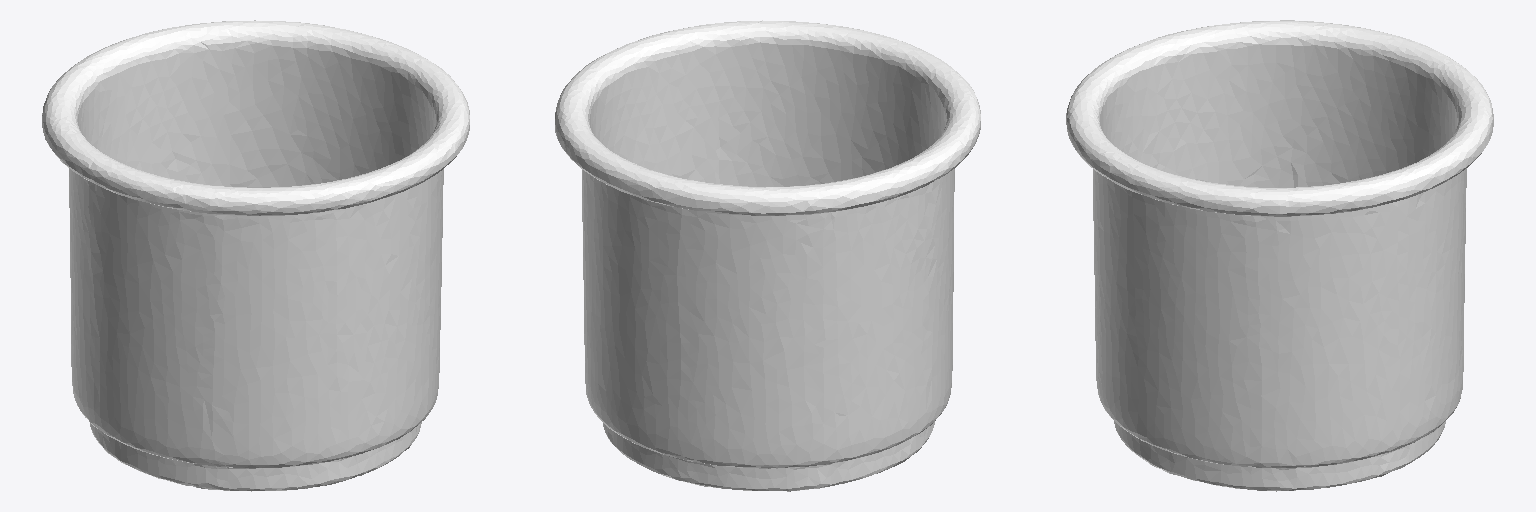
URDF robot description (073-g_lego_duplo):
<robot name="073-g_lego_duplo">
	<link name="_name">
		<visual>
			<origin xyz="0.1440079954550051 0.8344438751622156 -0.31183760567335284" rpy="0 0 0" />
			<geometry>
				<mesh filename="073-g_lego_duplo/google_16k/textured.obj" scale="10 10 10" />
			</geometry>
			<material name="texture">
				<color rgba="1.0 1.0 1.0 1.0" />
			</material>
		</visual>
		<collision>
			<geometry>
				<mesh filename="073-g_lego_duplo/google_16k/textured_vhacd.obj" scale="10 10 10" />
			</geometry>
		<origin xyz="0.1440079954550051 0.8344438751622156 -0.31183760567335284" rpy="0 0 0" /></collision>
		<inertial>
			<mass value="1.0" />
			<inertia ixx="1.0" ixy="0.0" ixz="0.0" iyy="1.0" iyz="0.0" izz="1.0" />
		</inertial>
	</link>
</robot>

--- Facts derived from the render (not from the file) ---
3 views of the same robot in one strip: view 1: azimuth 30°, elevation 25°; view 2: azimuth 150°, elevation 25°; view 3: azimuth 270°, elevation 25° (orthographic).
Model 073-g_lego_duplo with 1 links and 0 joints (none), rooted at _name, posed all joints at 0.
Links seen in each view (by area): view 1: _name; view 2: _name; view 3: _name.
Link boxes in pixels (<box>): _name: <box>42,20,469,491</box>; _name: <box>555,20,980,491</box>; _name: <box>1066,20,1493,491</box>.
Size in the robot's own frame: 0.915 by 0.9162 by 0.7506 metres.
Meshes: 1 distinct files referenced, 1 mesh visuals loaded (1 OBJ).